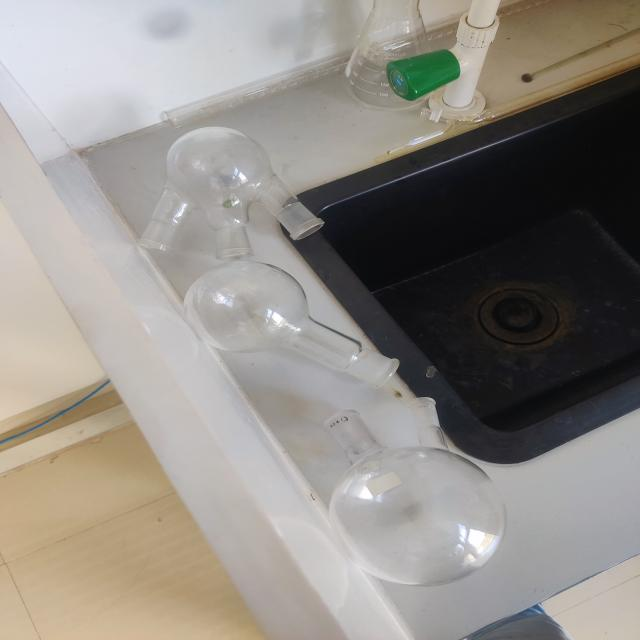Round_Bottom_Flask_Borosilicate_Glass_1_Neck: (158, 230, 412, 388)
Round_Bottom_Flask_Borosilicate_Glass_2_Neck: (303, 376, 524, 605)
Round_Bottom_Flask_Borosilicate_Glass_3_Neck: (120, 90, 357, 272)
